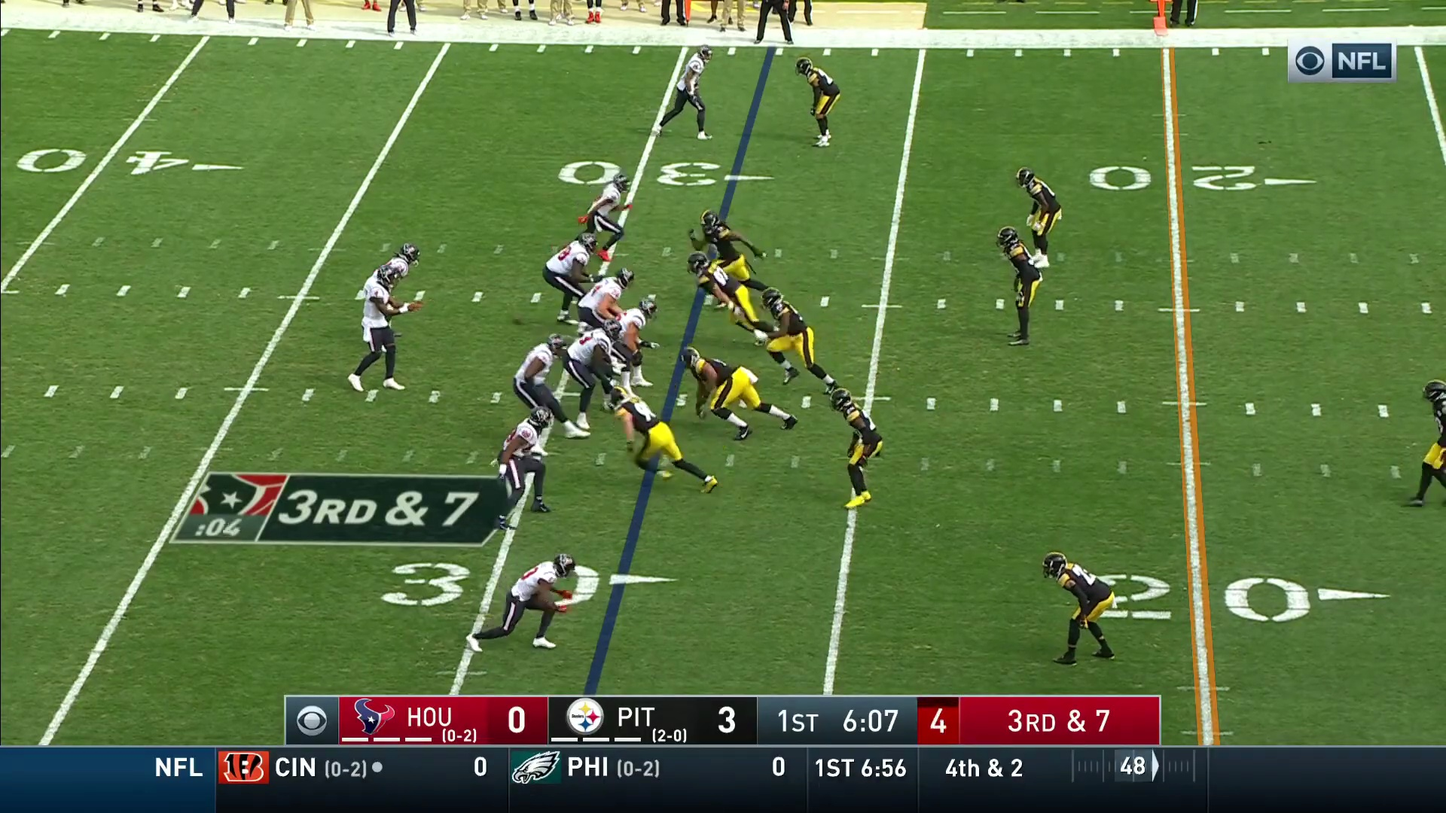Player: (504, 554, 578, 647), (689, 211, 752, 300), (565, 326, 615, 432), (607, 296, 656, 388), (578, 269, 632, 329), (1423, 380, 1446, 469)
